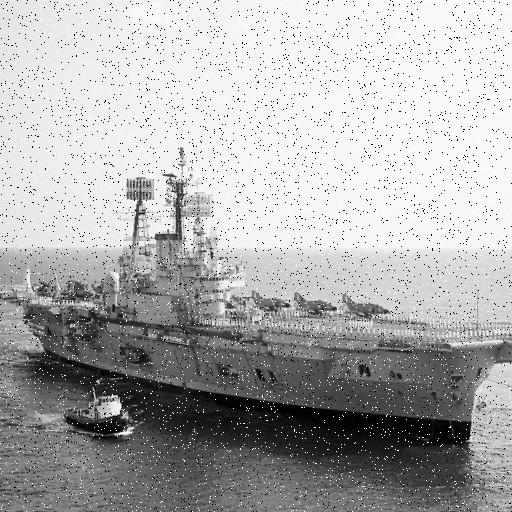Portanaves: (14, 142, 512, 455)
